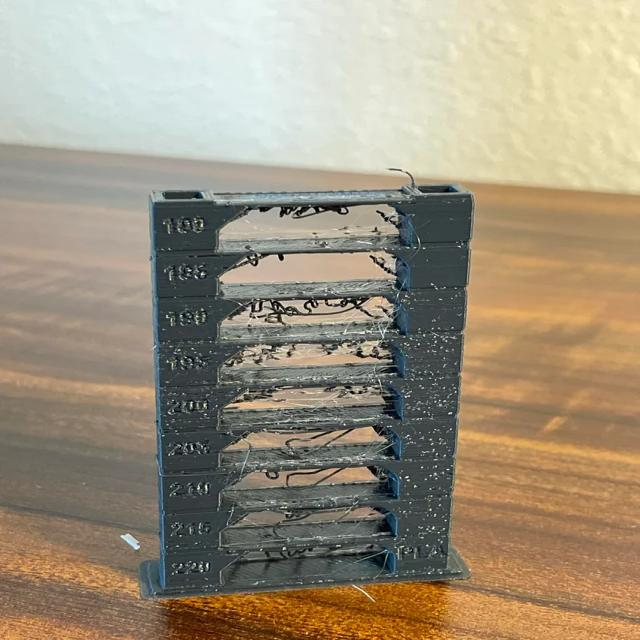Stringing: (236, 305, 390, 325), (257, 344, 366, 366), (261, 388, 371, 402)
